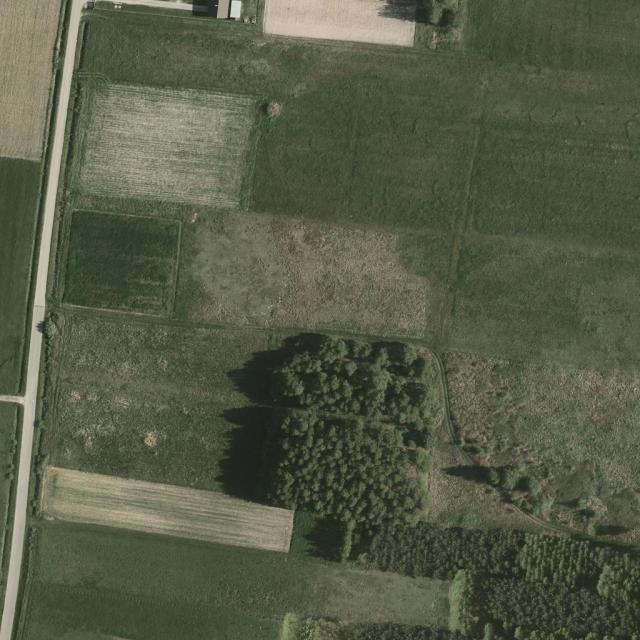greenland: (260, 340, 640, 640)
